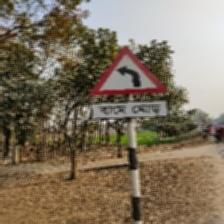Left-Turn: (86, 46, 170, 123)
